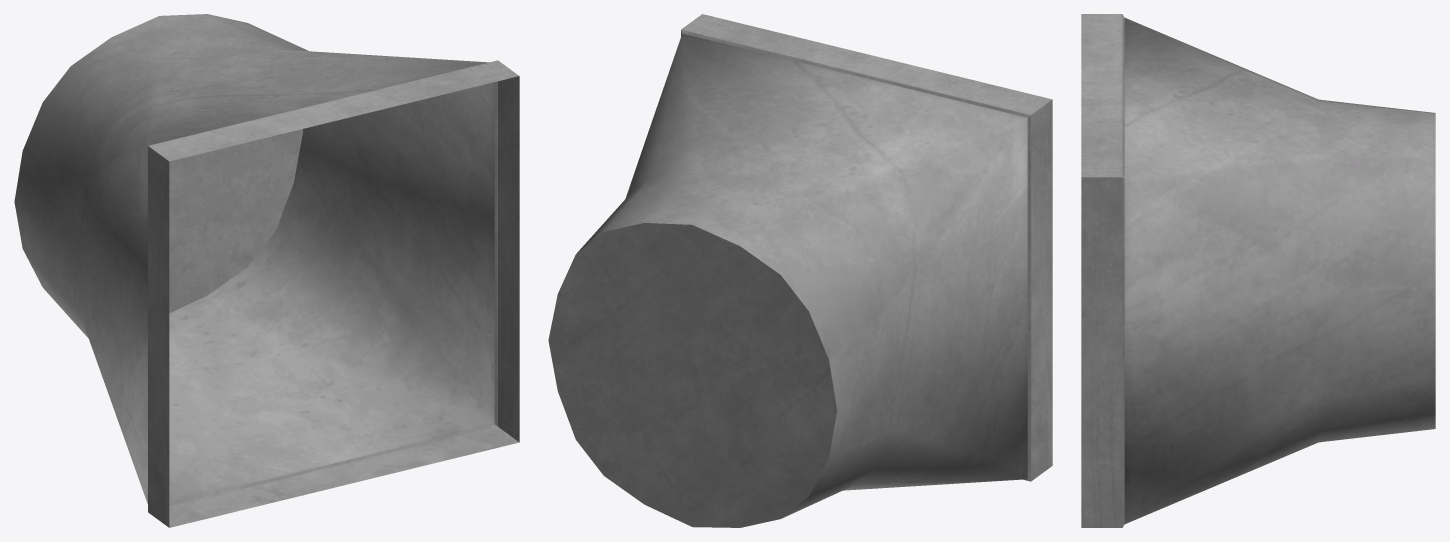
File: SM_Air_Vent_01b.glb
3 views of the same model, side by side, from view 1: azimuth 30°, elevation 25°; view 2: azimuth 150°, elevation 25°; view 3: azimuth 270°, elevation 25° (orthographic). The views are drawn at different scales.
Visible parts, largest first — view 1: SM_Air_Vent_01b; view 2: SM_Air_Vent_01b; view 3: SM_Air_Vent_01b.
Part boxes in pixels (x1=…): SM_Air_Vent_01b: x1=14, y1=14, x2=519, y2=527; SM_Air_Vent_01b: x1=548, y1=14, x2=1052, y2=527; SM_Air_Vent_01b: x1=1081, y1=14, x2=1435, y2=527.
Size of the model in its own units: 0.7517 by 0.7517 by 0.6884.
1 material, 1 textured.
